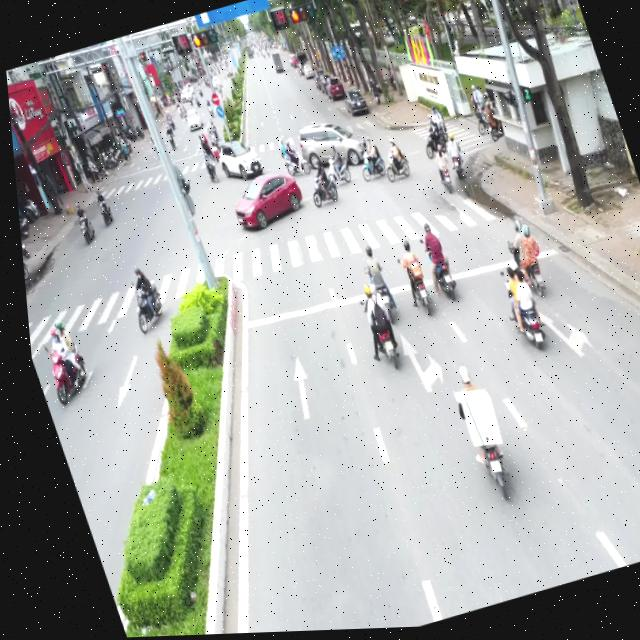Red: (287, 5, 317, 27), (189, 29, 218, 51)
